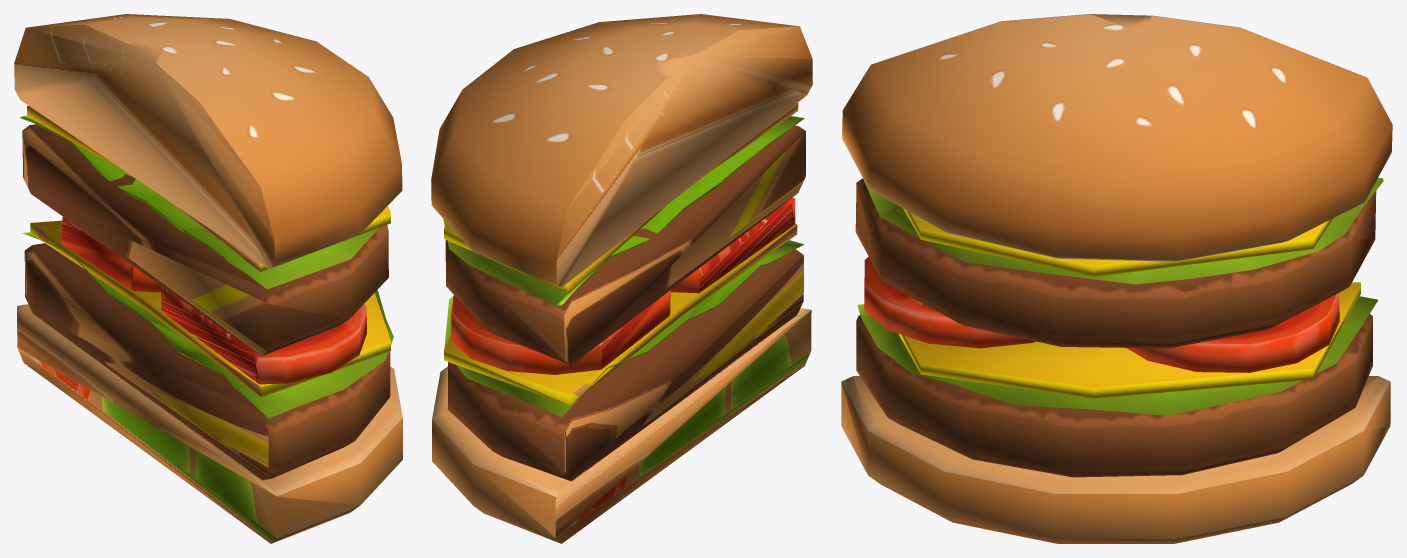
File: burger01.fbx
The picture shows the model from 3 angles, left to right: view 1: azimuth 30°, elevation 25°; view 2: azimuth 150°, elevation 25°; view 3: azimuth 270°, elevation 25°; orthographic projection. The views are drawn at different scales.
Visible parts, largest first — view 1: Hambuger; view 2: Hambuger; view 3: Hambuger.
Boxes of the visible parts, x1,y1,x2,y2 form: Hambuger: (14,14,402,543); Hambuger: (431,14,812,543); Hambuger: (841,14,1392,543).
Size of the model in its own units: 11.02 by 19.04 by 22.57.
